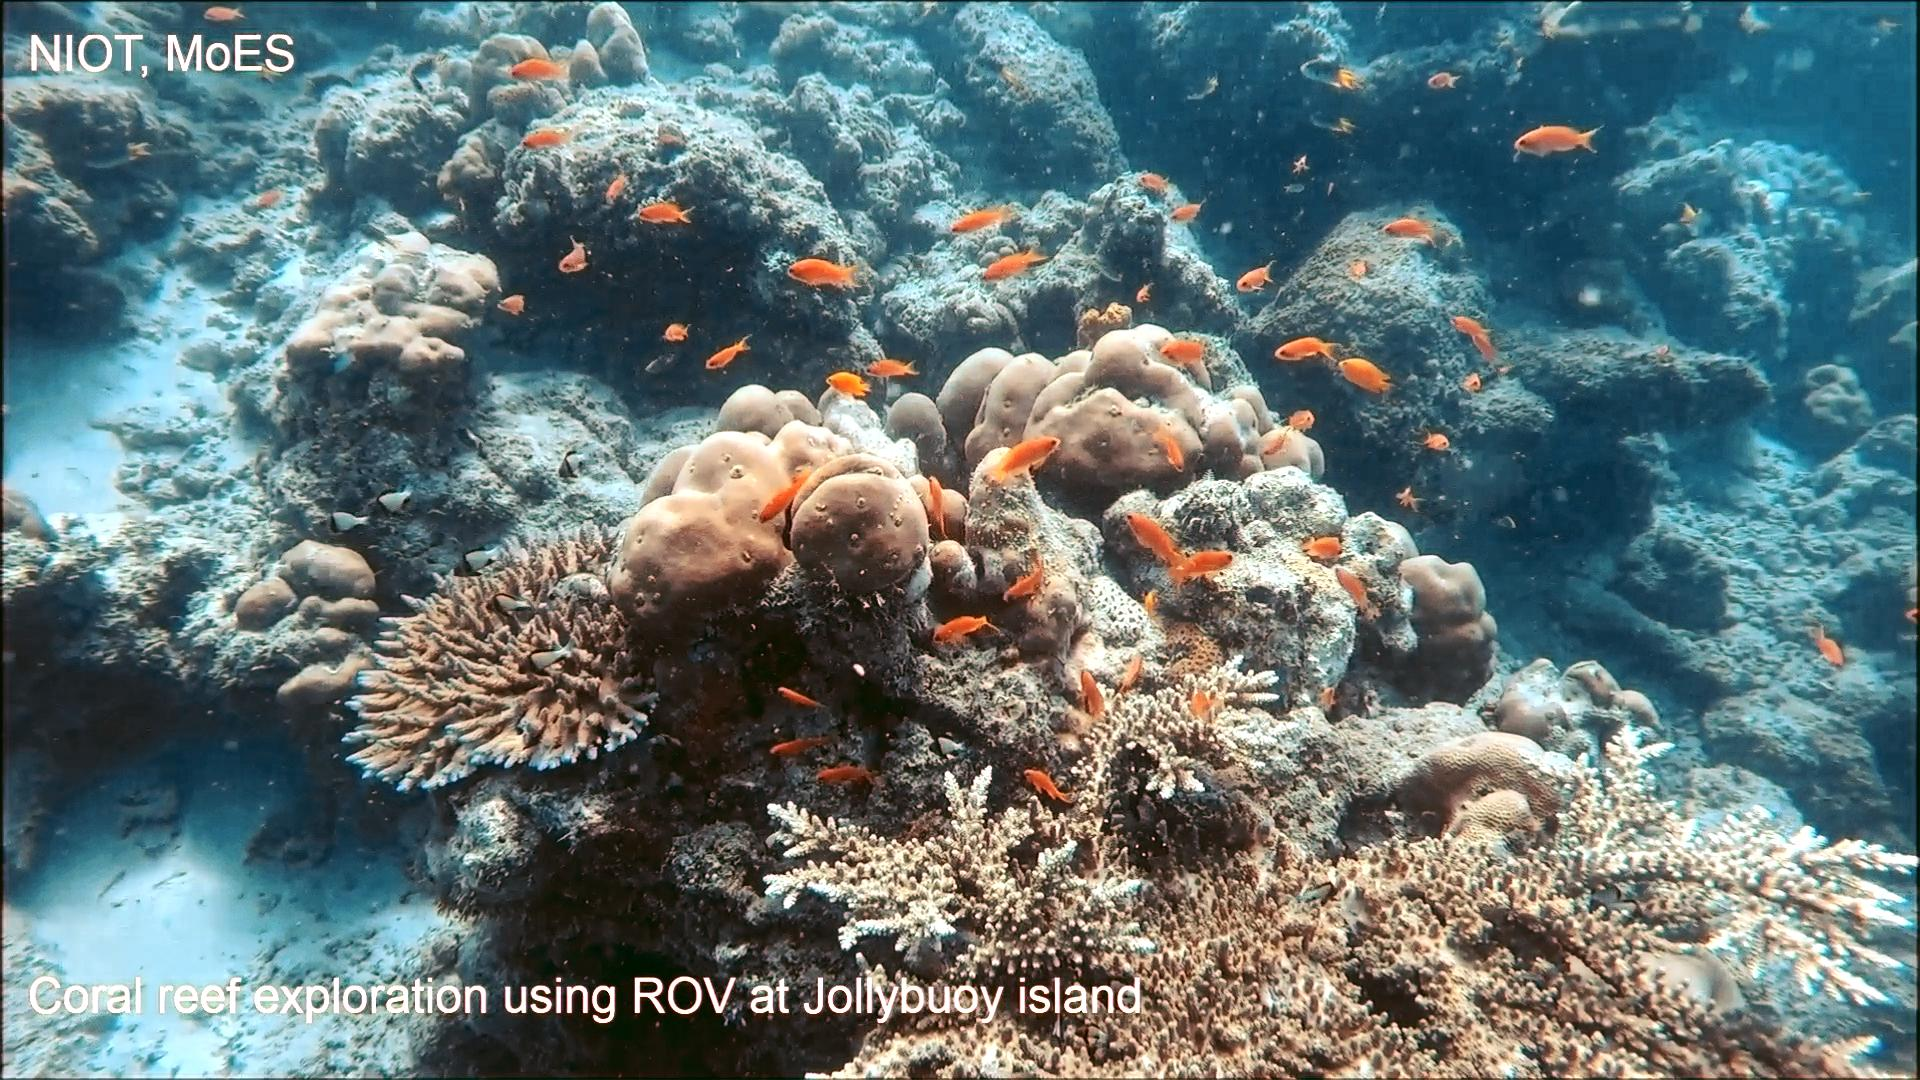Porites-Porites pukoensis: (604, 376, 939, 652), (912, 318, 1323, 503)
